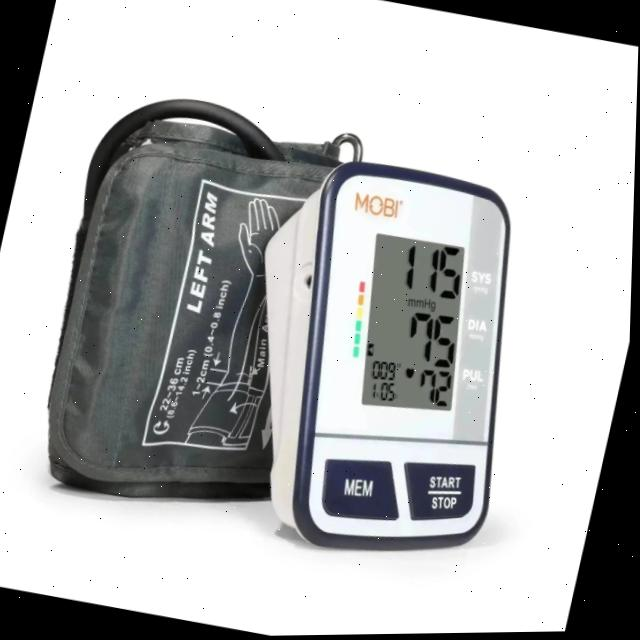dia: (399, 305, 467, 376)
pul: (416, 364, 462, 416)
ssd: (364, 236, 471, 414)
sys: (400, 236, 469, 305)
